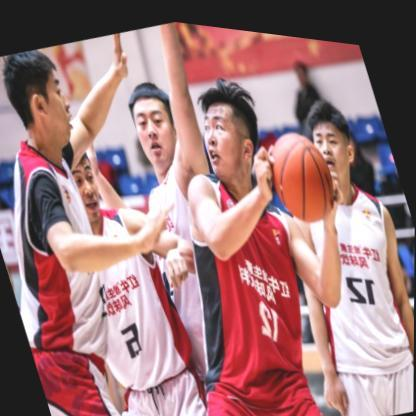basketball: (259, 113, 345, 226)
